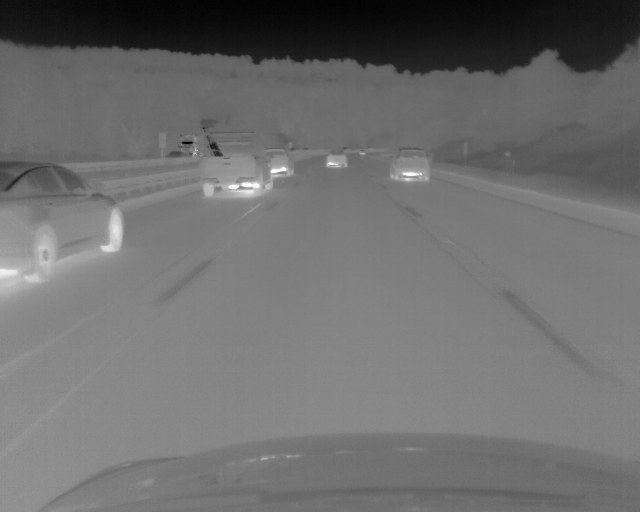car: (1, 157, 123, 283), (198, 118, 273, 197), (388, 146, 432, 182), (266, 147, 295, 177), (179, 134, 198, 156), (326, 151, 349, 168), (166, 150, 184, 157), (360, 149, 367, 156)
